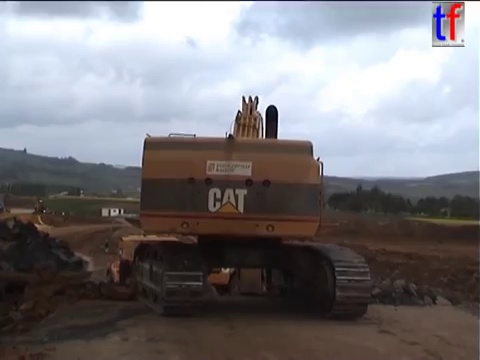excavator: (117, 91, 376, 321)
truck: (1, 204, 98, 334), (102, 230, 194, 312), (204, 235, 309, 305)
